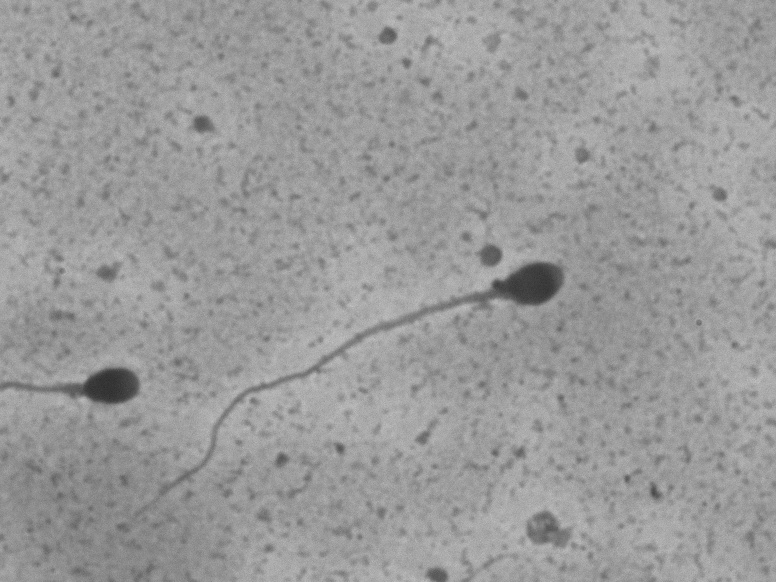Abnormal: (123, 242, 590, 524)
